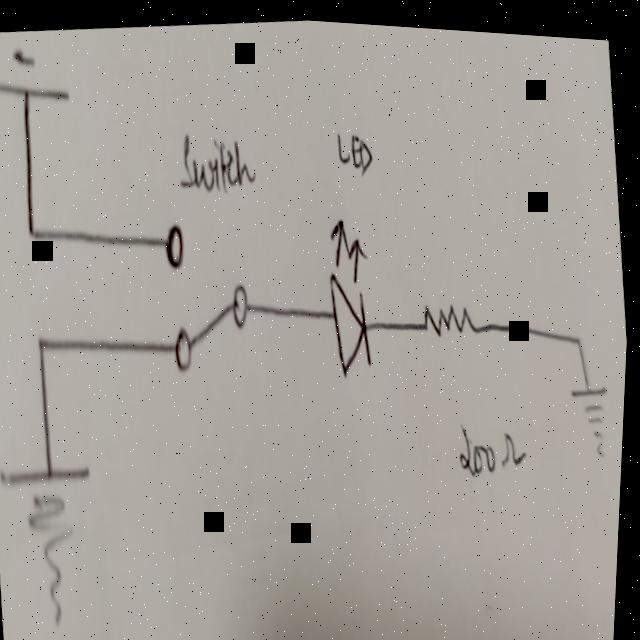diode: (320, 208, 381, 371)
ground: (0, 452, 107, 629), (570, 371, 618, 454)
junction: (33, 320, 54, 361), (24, 210, 44, 252), (573, 319, 588, 348)
resistor: (421, 287, 480, 335)
source: (0, 41, 71, 109)
switch: (159, 207, 261, 376)
text: (178, 124, 253, 197), (458, 405, 534, 475), (334, 123, 375, 170)
